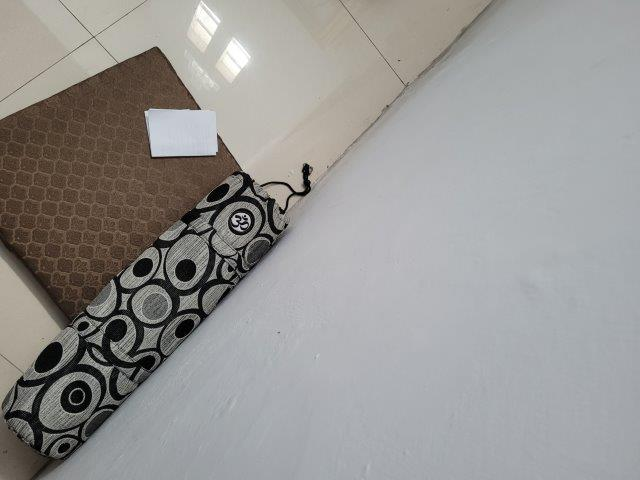kertas: (144, 108, 218, 158)
